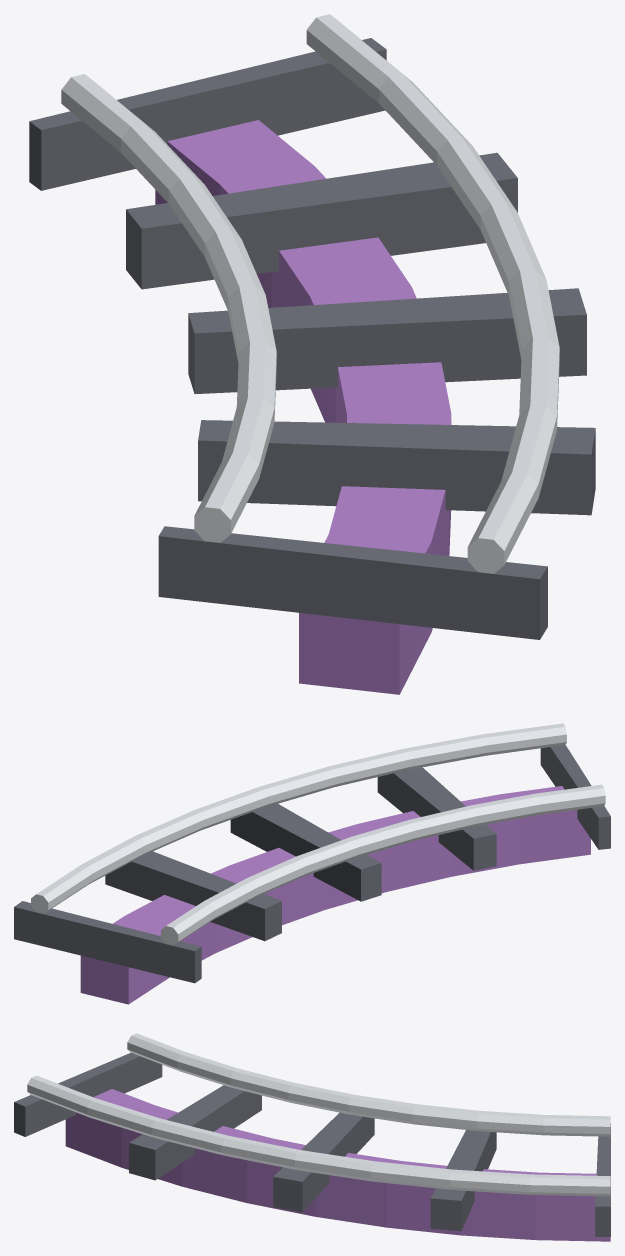
Rendered from theme-park-rides-and-coasters-theme-park-rides-and-coa-b1df0702__28626.glb.
3 renders of one model, top to bottom at view 1: azimuth 30°, elevation 25°; view 2: azimuth 150°, elevation 25°; view 3: azimuth 270°, elevation 25°, orthographic. The views are drawn at different scales.
Parts seen in each view (by area): view 1: theme-park-rides-and-coasters-track-curve-45-left; view 2: theme-park-rides-and-coasters-track-curve-45-left; view 3: theme-park-rides-and-coasters-track-curve-45-left.
Boxes of the visible parts, box(x1,y1,x2,y2) form: theme-park-rides-and-coasters-track-curve-45-left: box(29, 14, 595, 694); theme-park-rides-and-coasters-track-curve-45-left: box(14, 723, 610, 1004); theme-park-rides-and-coasters-track-curve-45-left: box(14, 1033, 610, 1241).
Bounding box in the file's own units: 2.08 × 0.4908 × 3.21.
